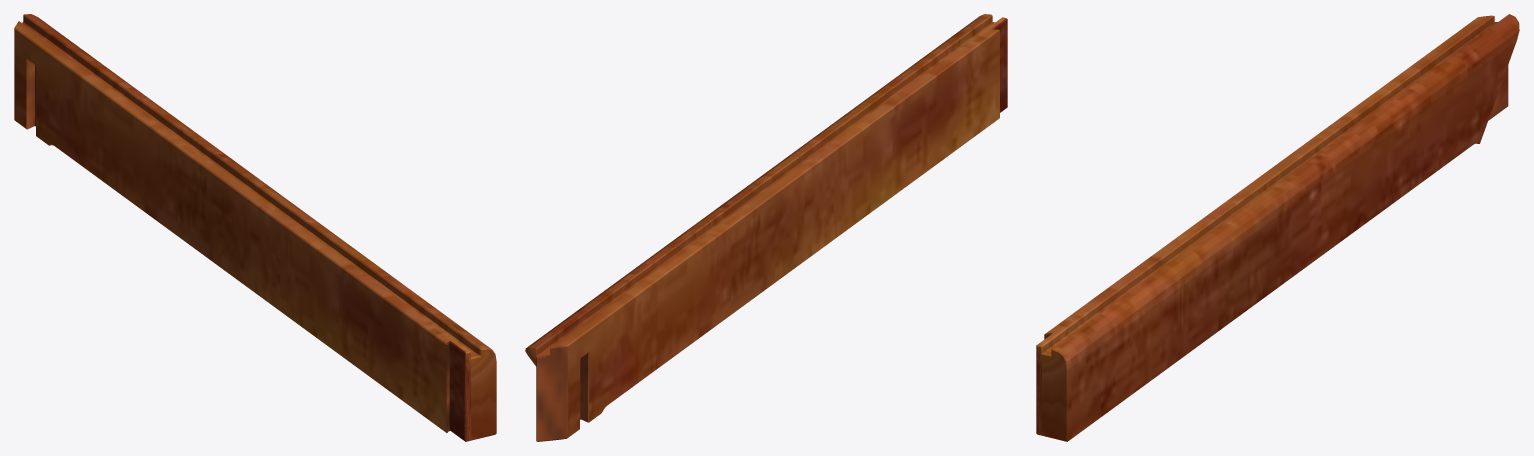
Rendered from baxianzhuo_J_yaban_01.FBX.
3 renders of one model, left to right at view 1: azimuth 30°, elevation 25°; view 2: azimuth 150°, elevation 25°; view 3: azimuth 330°, elevation 25°, orthographic.
Parts seen in each view (by area): view 1: baxianzhuo_J_yaban_01; view 2: baxianzhuo_J_yaban_01; view 3: baxianzhuo_J_yaban_01.
Part boxes in pixels (x1,y1,x2,y2): baxianzhuo_J_yaban_01: [14, 14, 496, 441]; baxianzhuo_J_yaban_01: [525, 14, 1007, 441]; baxianzhuo_J_yaban_01: [1036, 14, 1519, 441].
Size of the model in its own units: 2.2 by 5.3 by 46.96.
2 materials, 2 textured.
